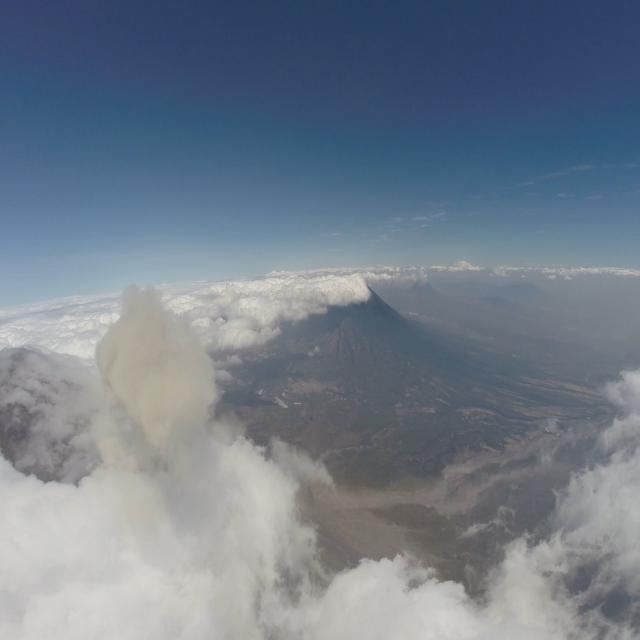Plume: (98, 280, 218, 460)
